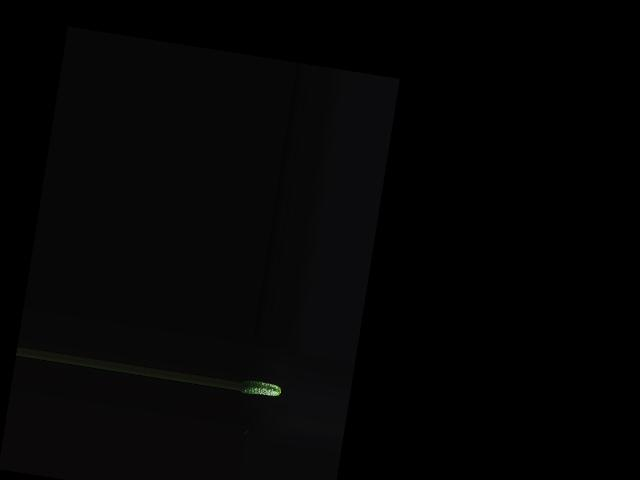cucumber: (239, 378, 282, 399)
